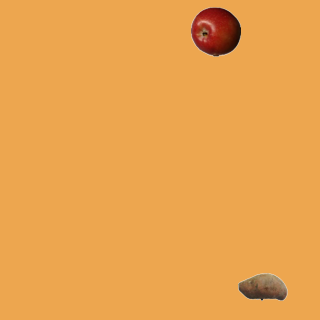Apple Braeburn: (190, 6, 240, 56)
Potato Sweet: (237, 261, 287, 311)
